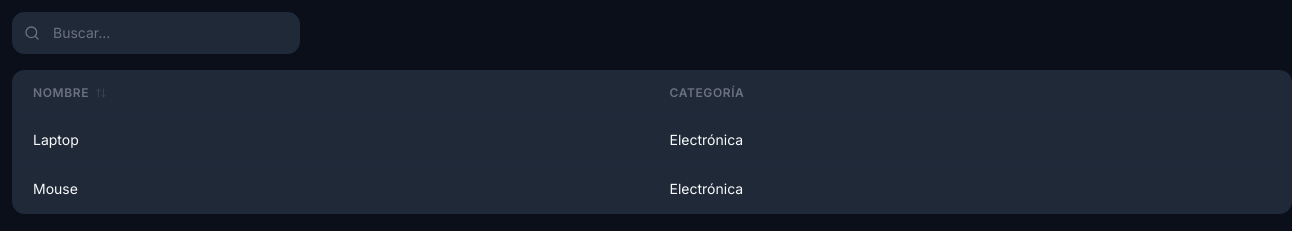
Test: DataTable › filtra los datos al escribir en el buscador
Type "Laptop" into the field with placeholder "Buscar..." at [156, 33], box [12,12,300,54]
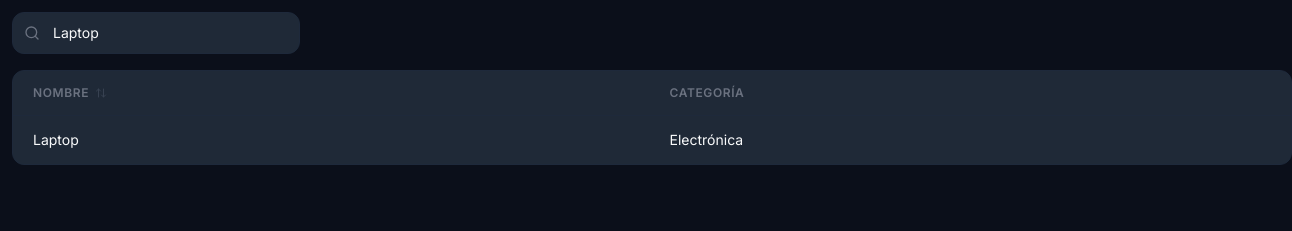
Expected: the text "Mouse" is gone
